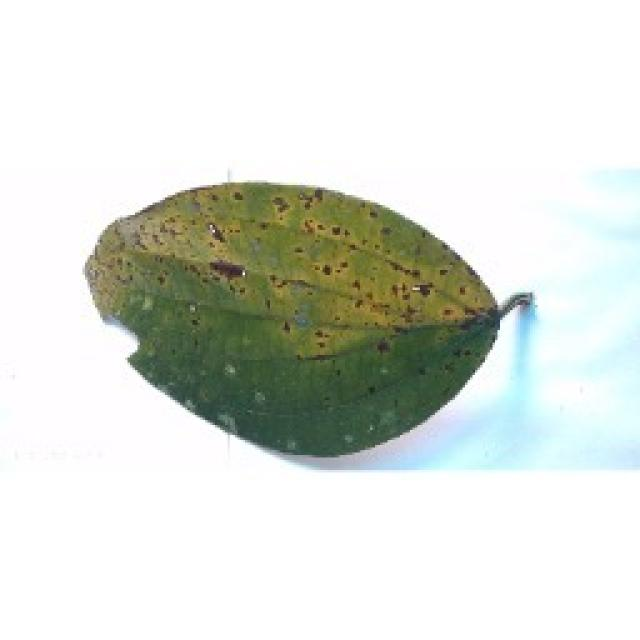slow-decline: (80, 177, 525, 455)
